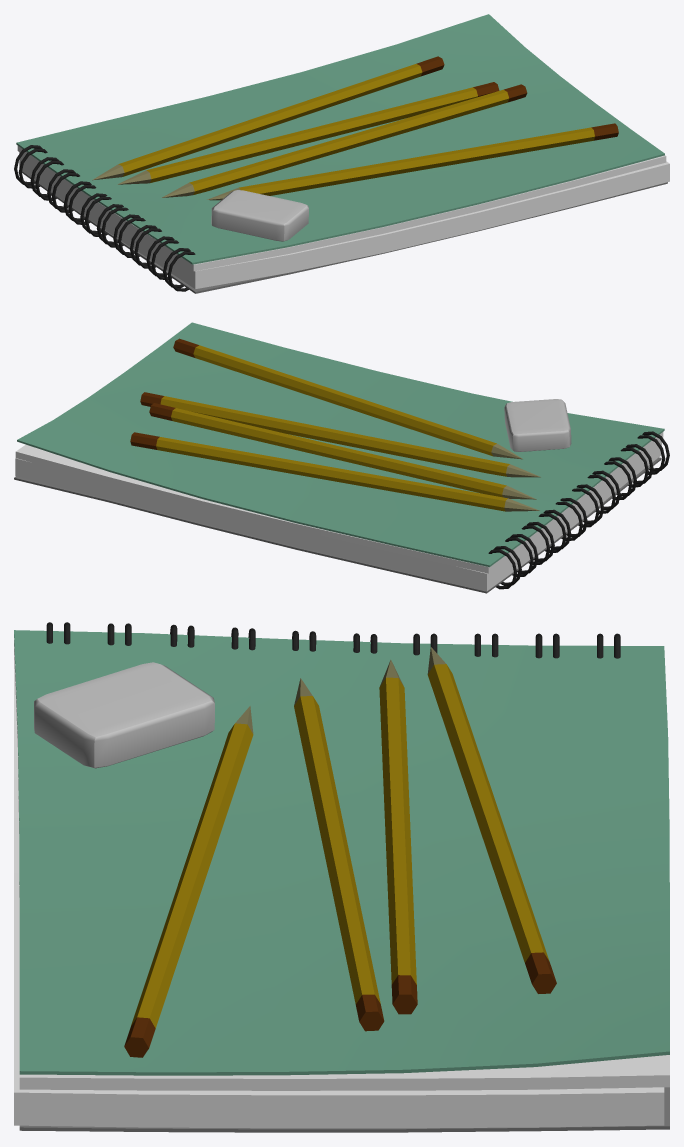
Rendered from Buku_Gambar.fbx.
The picture shows the model from 3 angles, top to bottom: view 1: azimuth 30°, elevation 25°; view 2: azimuth 150°, elevation 25°; view 3: azimuth 270°, elevation 25°; orthographic projection. The views are drawn at different scales.
Visible parts, largest first — view 1: pCube4, pCube1, pCylinder4, pCylinder2, pCylinder1, pCylinder3, pCube3, pCube6, pCube5, pTorus12, pTorus4, pTorus6 (+7 smaller); view 2: pCube4, pCube1, pCylinder3, pCube3, pCylinder2, pCylinder1, pCylinder4, pCube6, pCube5, pTorus3, pTorus4, pTorus5 (+7 smaller); view 3: pCube4, pCube1, pCube6, pCube3, pCylinder4, pCylinder2, pCylinder1, pCylinder3, pCube5.
Boxes of the visible parts, bbox=[...] form: pCube4: bbox=[16, 14, 664, 264]; pCube1: bbox=[19, 152, 669, 289]; pCylinder4: bbox=[207, 123, 618, 200]; pCylinder2: bbox=[117, 82, 499, 184]; pCylinder1: bbox=[162, 84, 527, 197]; pCylinder3: bbox=[92, 56, 444, 180]; pCube3: bbox=[17, 146, 666, 271]; pCube6: bbox=[211, 190, 308, 241]; pCube5: bbox=[22, 171, 667, 293]; pTorus12: bbox=[163, 248, 195, 291]; pTorus4: bbox=[30, 157, 63, 200]; pTorus6: bbox=[63, 181, 96, 225]; pCube4: bbox=[17, 322, 664, 567]; pCube1: bbox=[15, 440, 661, 591]; pCylinder3: bbox=[130, 432, 539, 511]; pCube3: bbox=[15, 432, 663, 573]; pCylinder2: bbox=[149, 403, 536, 499]; pCylinder1: bbox=[140, 392, 540, 477]; pCylinder4: bbox=[173, 338, 522, 459]; pCube6: bbox=[504, 399, 571, 451]; pCube5: bbox=[14, 457, 661, 593]; pTorus3: bbox=[488, 546, 521, 589]; pTorus4: bbox=[505, 534, 538, 577]; pTorus5: bbox=[521, 522, 554, 565]; pCube4: bbox=[14, 630, 669, 1075]; pCube1: bbox=[14, 652, 664, 1128]; pCube6: bbox=[34, 662, 214, 768]; pCube3: bbox=[14, 638, 669, 1090]; pCylinder4: bbox=[124, 706, 253, 1057]; pCylinder2: bbox=[379, 659, 417, 1014]; pCylinder1: bbox=[294, 678, 384, 1031]; pCylinder3: bbox=[427, 647, 556, 993]; pCube5: bbox=[19, 1087, 669, 1132].
Bounding box in the file's own units: 143 × 15.28 × 89.38.
